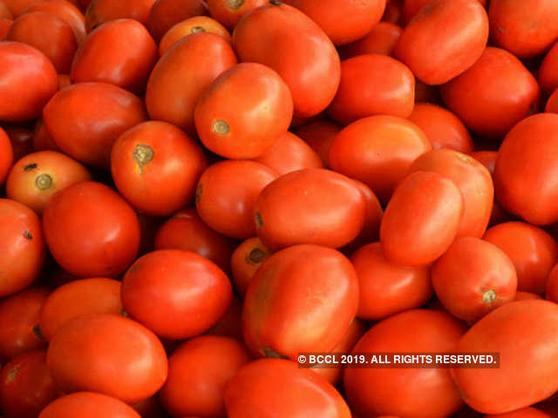tomato: (242, 242, 360, 359), (460, 296, 558, 414), (250, 160, 368, 254), (124, 245, 235, 341), (196, 57, 296, 163), (48, 175, 144, 281), (45, 81, 151, 175), (117, 115, 202, 214), (399, 1, 490, 91), (384, 172, 466, 267), (496, 111, 558, 230), (75, 15, 160, 99)
